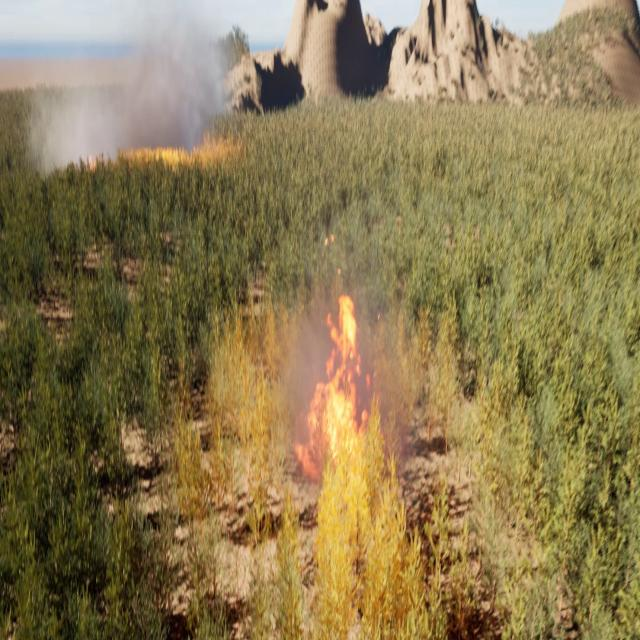fire: (294, 281, 372, 482)
smoke: (31, 0, 235, 171), (276, 255, 402, 458)
